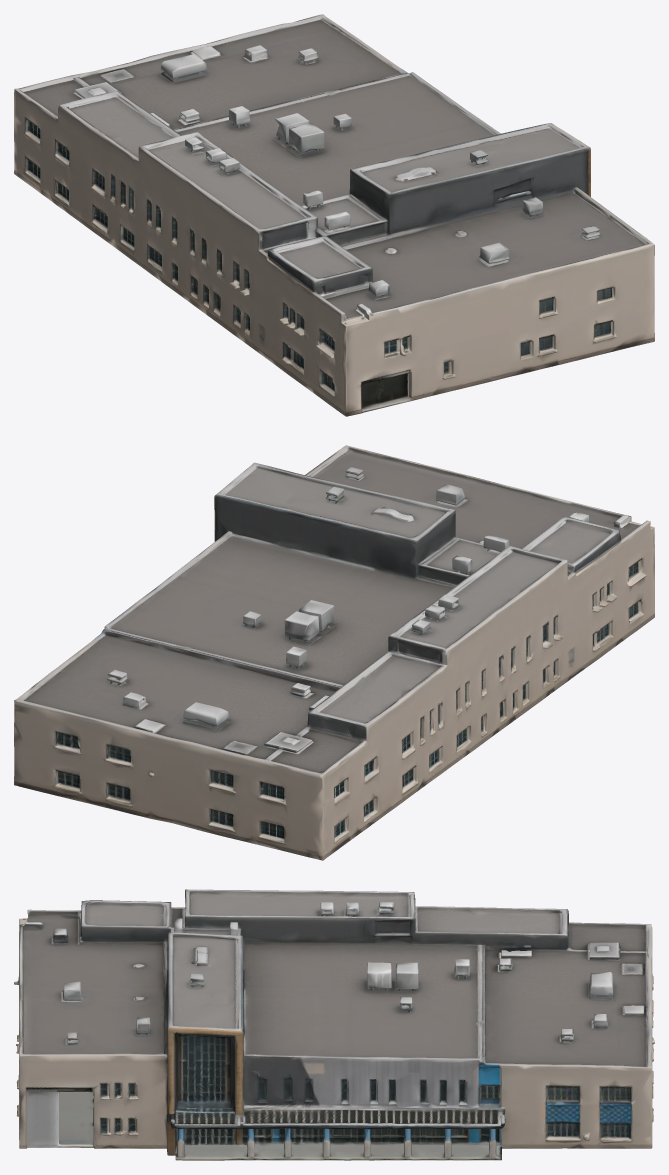
The model's file is mandela.glb.
The picture shows the model from 3 angles, top to bottom: view 1: azimuth 30°, elevation 25°; view 2: azimuth 150°, elevation 25°; view 3: azimuth 270°, elevation 25°; orthographic projection. The views are drawn at different scales.
Parts seen in each view (by area): view 1: tripo_node_3c909c2e-d04e-46fa-9641-85dc0dd79d90; view 2: tripo_node_3c909c2e-d04e-46fa-9641-85dc0dd79d90; view 3: tripo_node_3c909c2e-d04e-46fa-9641-85dc0dd79d90.
Boxes of the visible parts, left/top/right/bottom form: tripo_node_3c909c2e-d04e-46fa-9641-85dc0dd79d90: left=14, top=14, right=654, bottom=416; tripo_node_3c909c2e-d04e-46fa-9641-85dc0dd79d90: left=14, top=445, right=654, bottom=860; tripo_node_3c909c2e-d04e-46fa-9641-85dc0dd79d90: left=14, top=889, right=654, bottom=1160.
Bounding box in the file's own units: 0.5933 × 0.2319 × 1.
Materials: 1 (1 with a texture image).
